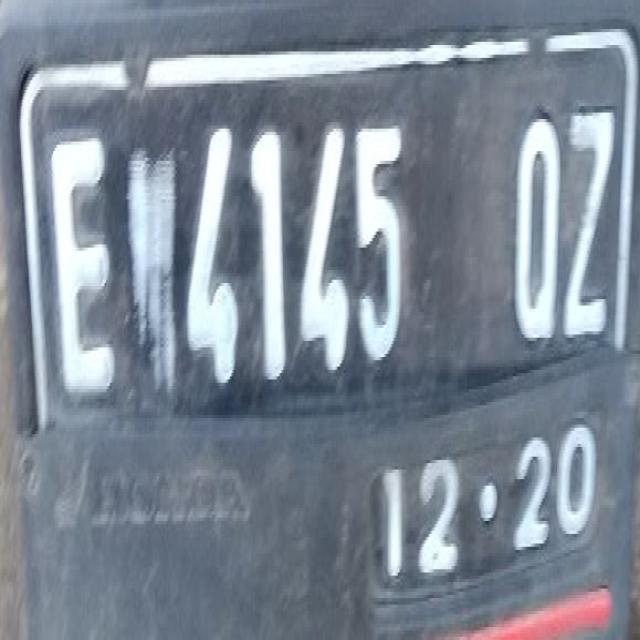plate: (17, 26, 636, 585)
